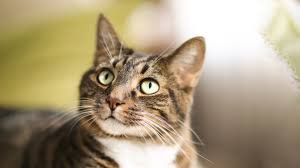cat: (73, 9, 201, 168)
